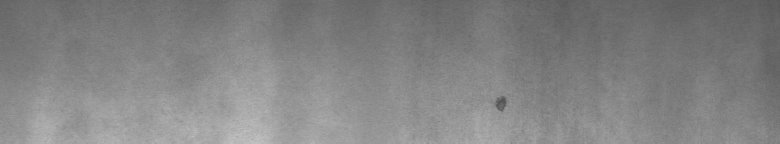fi: (491, 88, 512, 116)
